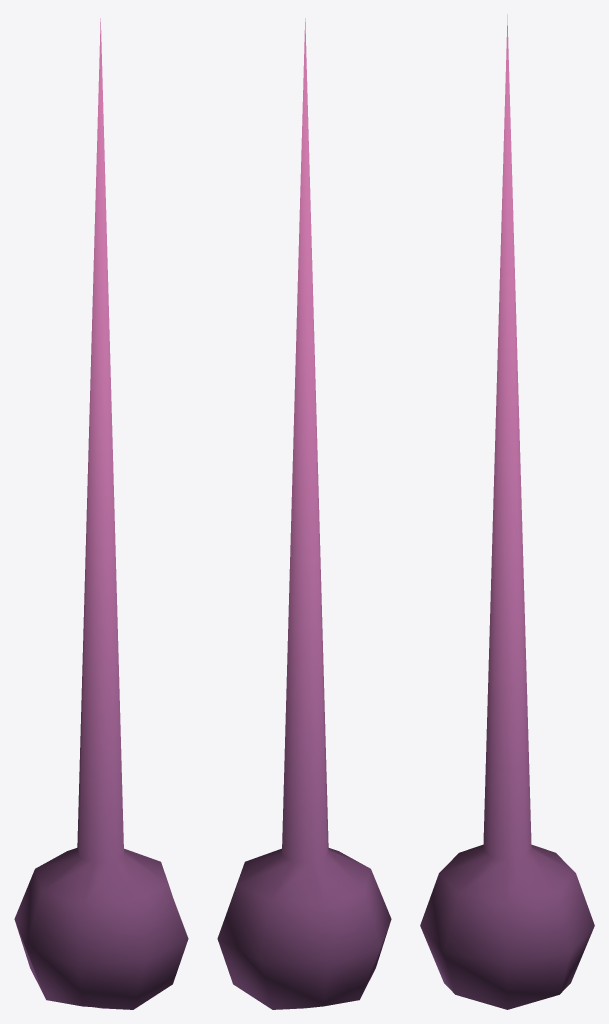
The model's file is SwordBoss.fbx.
3 views of the same model, side by side, from view 1: azimuth 30°, elevation 25°; view 2: azimuth 150°, elevation 25°; view 3: azimuth 270°, elevation 25° (orthographic).
Parts seen in each view (by area): view 1: boss.002; view 2: boss.002; view 3: boss.002.
Boxes of the visible parts, x1=… form: boss.002: x1=14, y1=18, x2=188, y2=1009; boss.002: x1=217, y1=18, x2=391, y2=1009; boss.002: x1=420, y1=14, x2=594, y2=1009.
Size of the model in its own units: 24.68 by 154 by 24.68.
